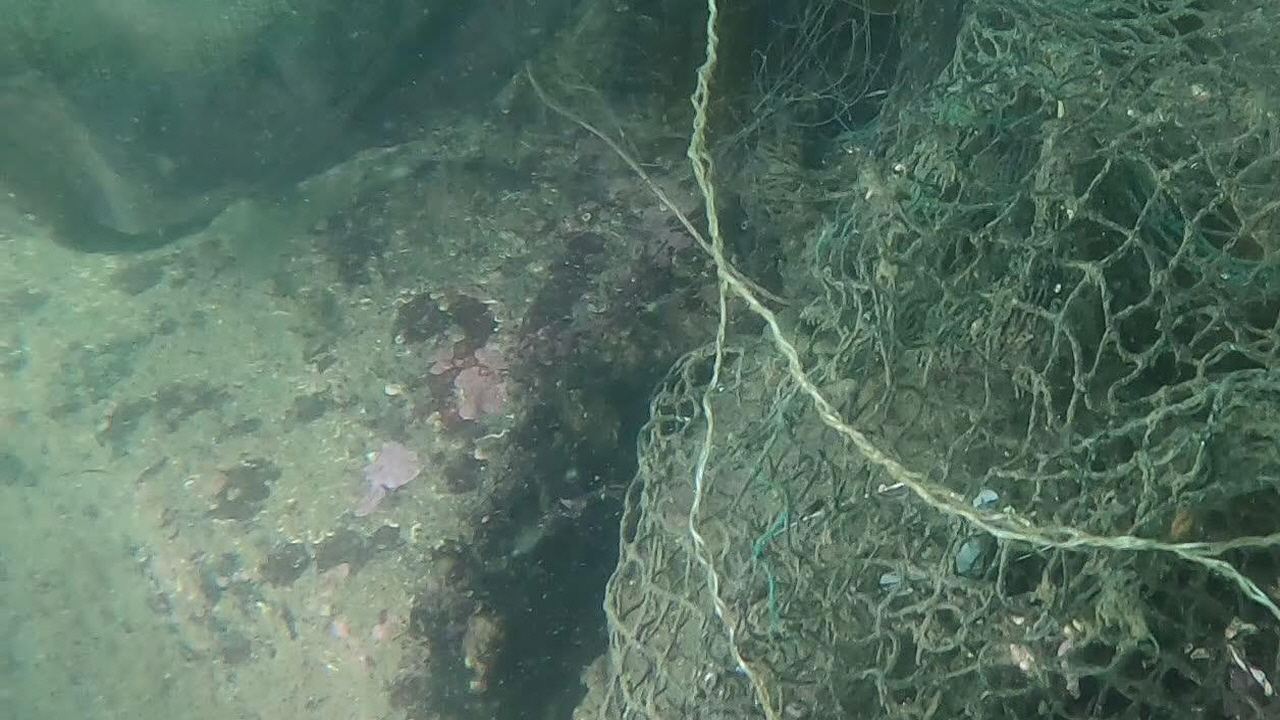fish net: (603, 0, 1280, 720)
